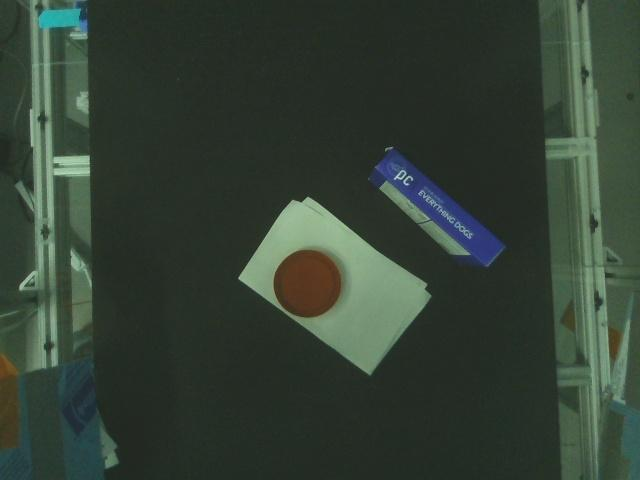cardboard: (370, 144, 505, 267)
paper: (236, 195, 434, 377)
plastic: (274, 249, 342, 318)
